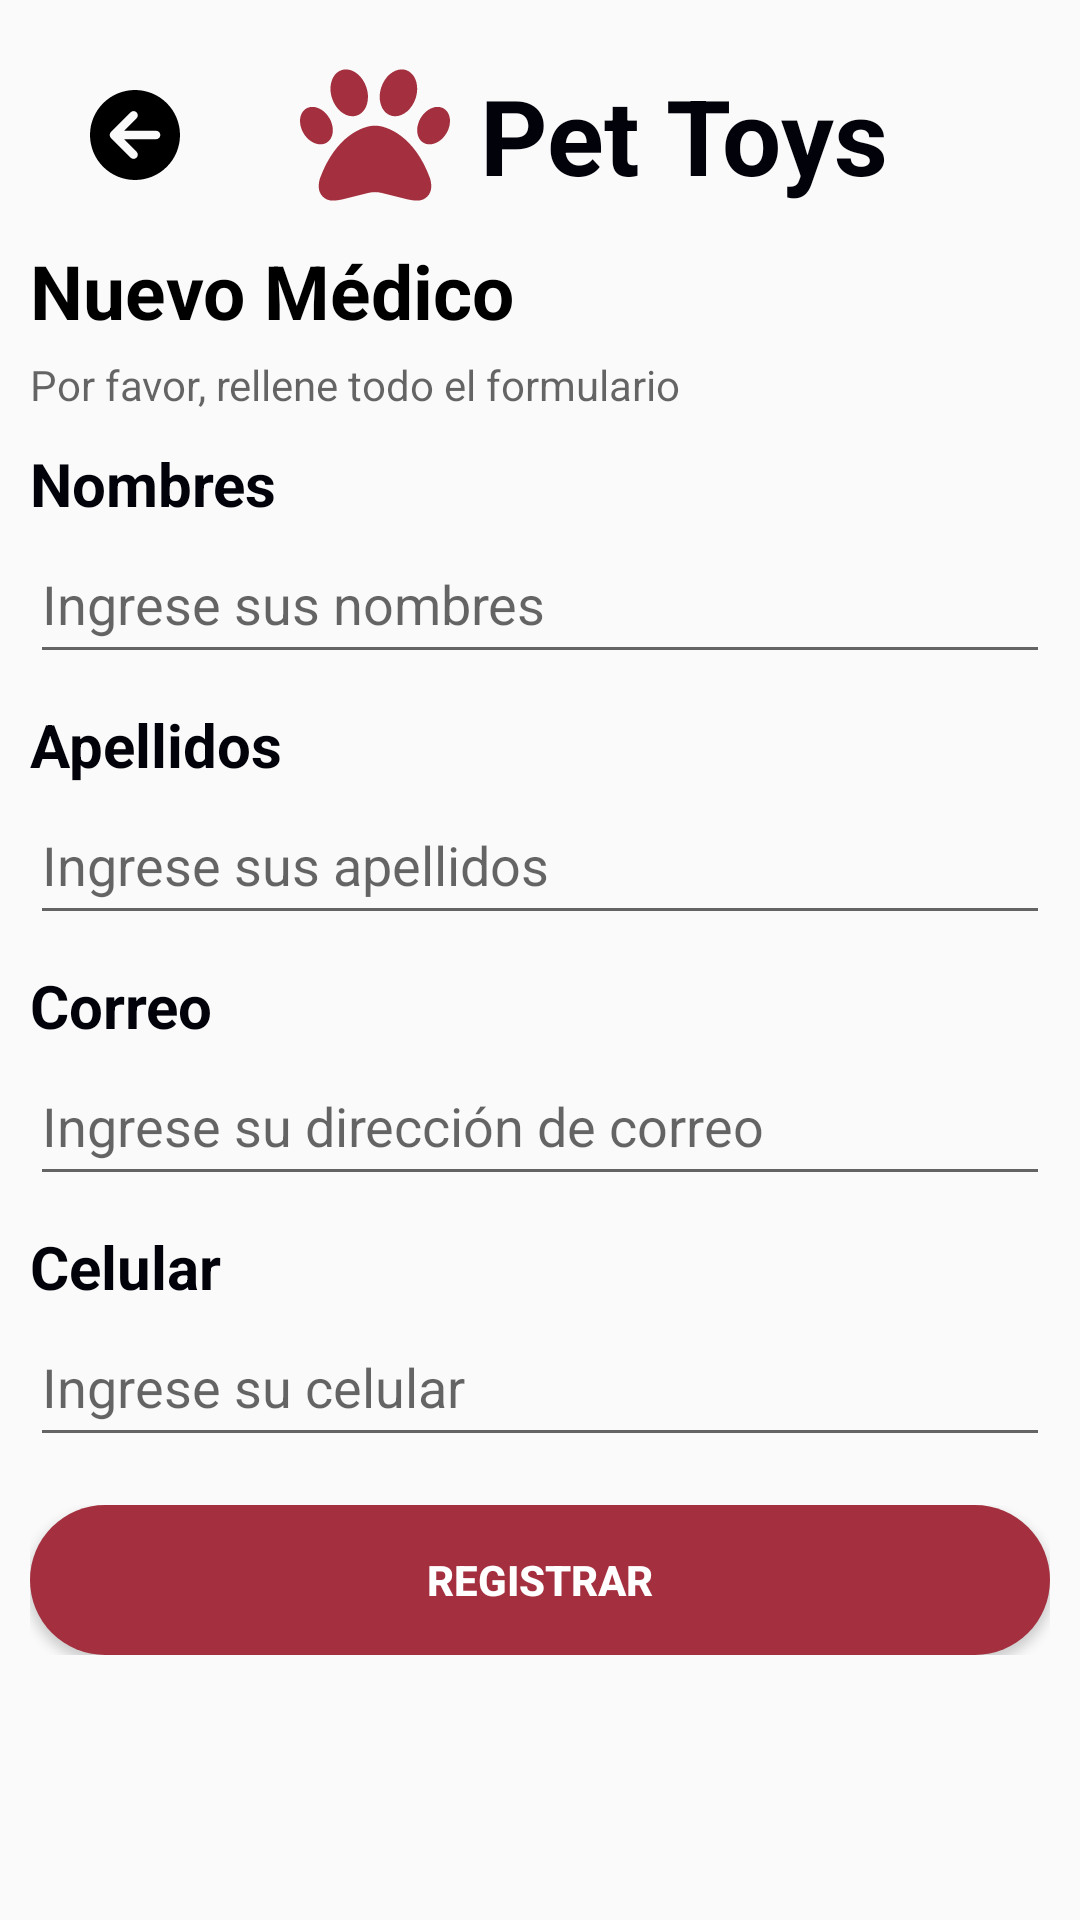

Icons on this 1080px×1920px Android screen, each with its box as box=[x1, y1, x2, y2]:
paw: box=[300, 69, 450, 201]
